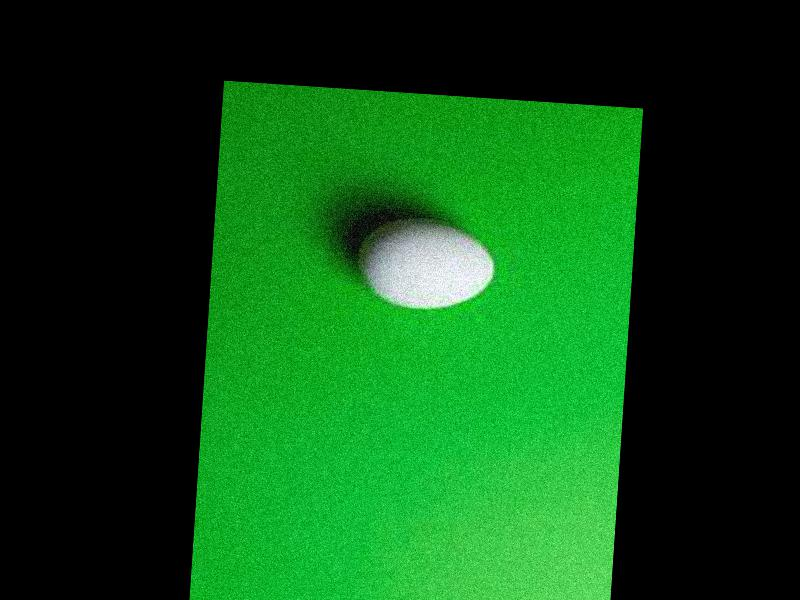Eggs: (355, 215, 497, 311)
